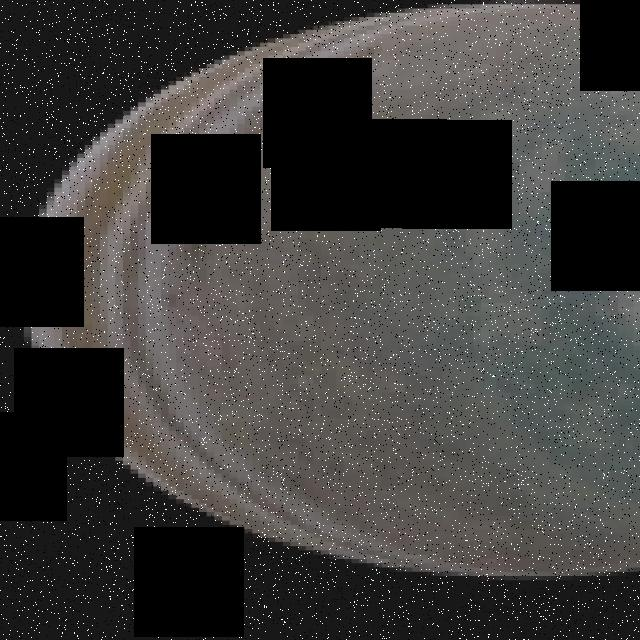Jupiter: (30, 4, 640, 580)
